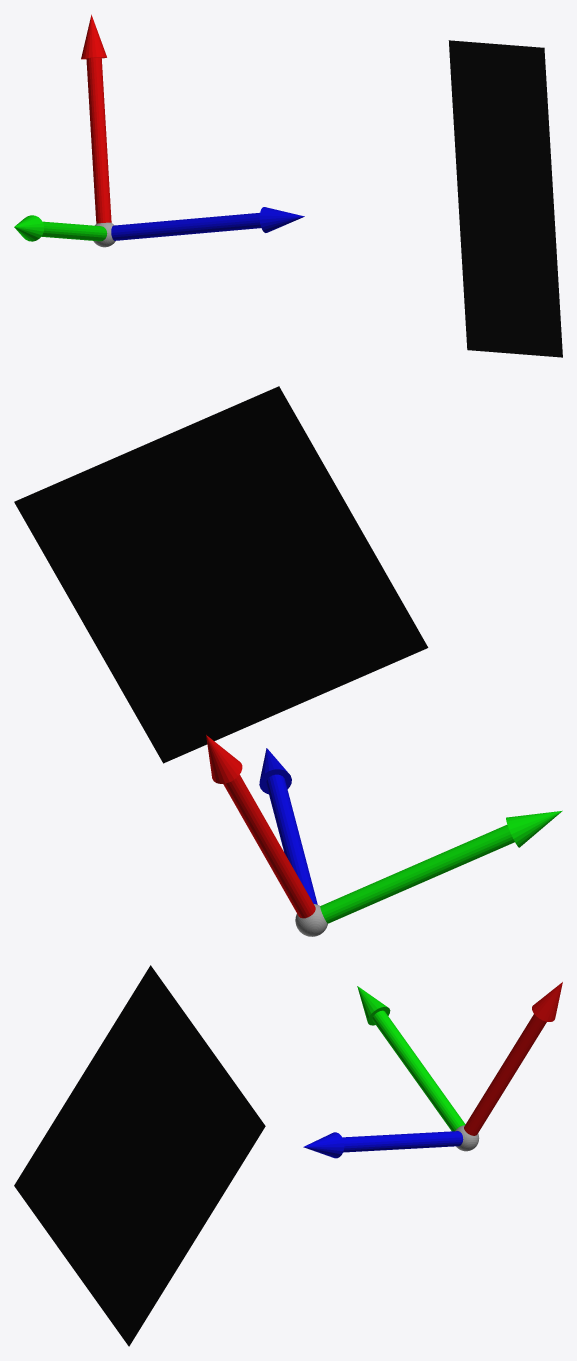
3 renders of one model, top to bottom at view 1: azimuth 30°, elevation 25°; view 2: azimuth 150°, elevation 25°; view 3: azimuth 270°, elevation 25°, orthographic. The views are drawn at different scales.
Size of the model in its own units: 0.317 by 0.2092 by 0.3137.
